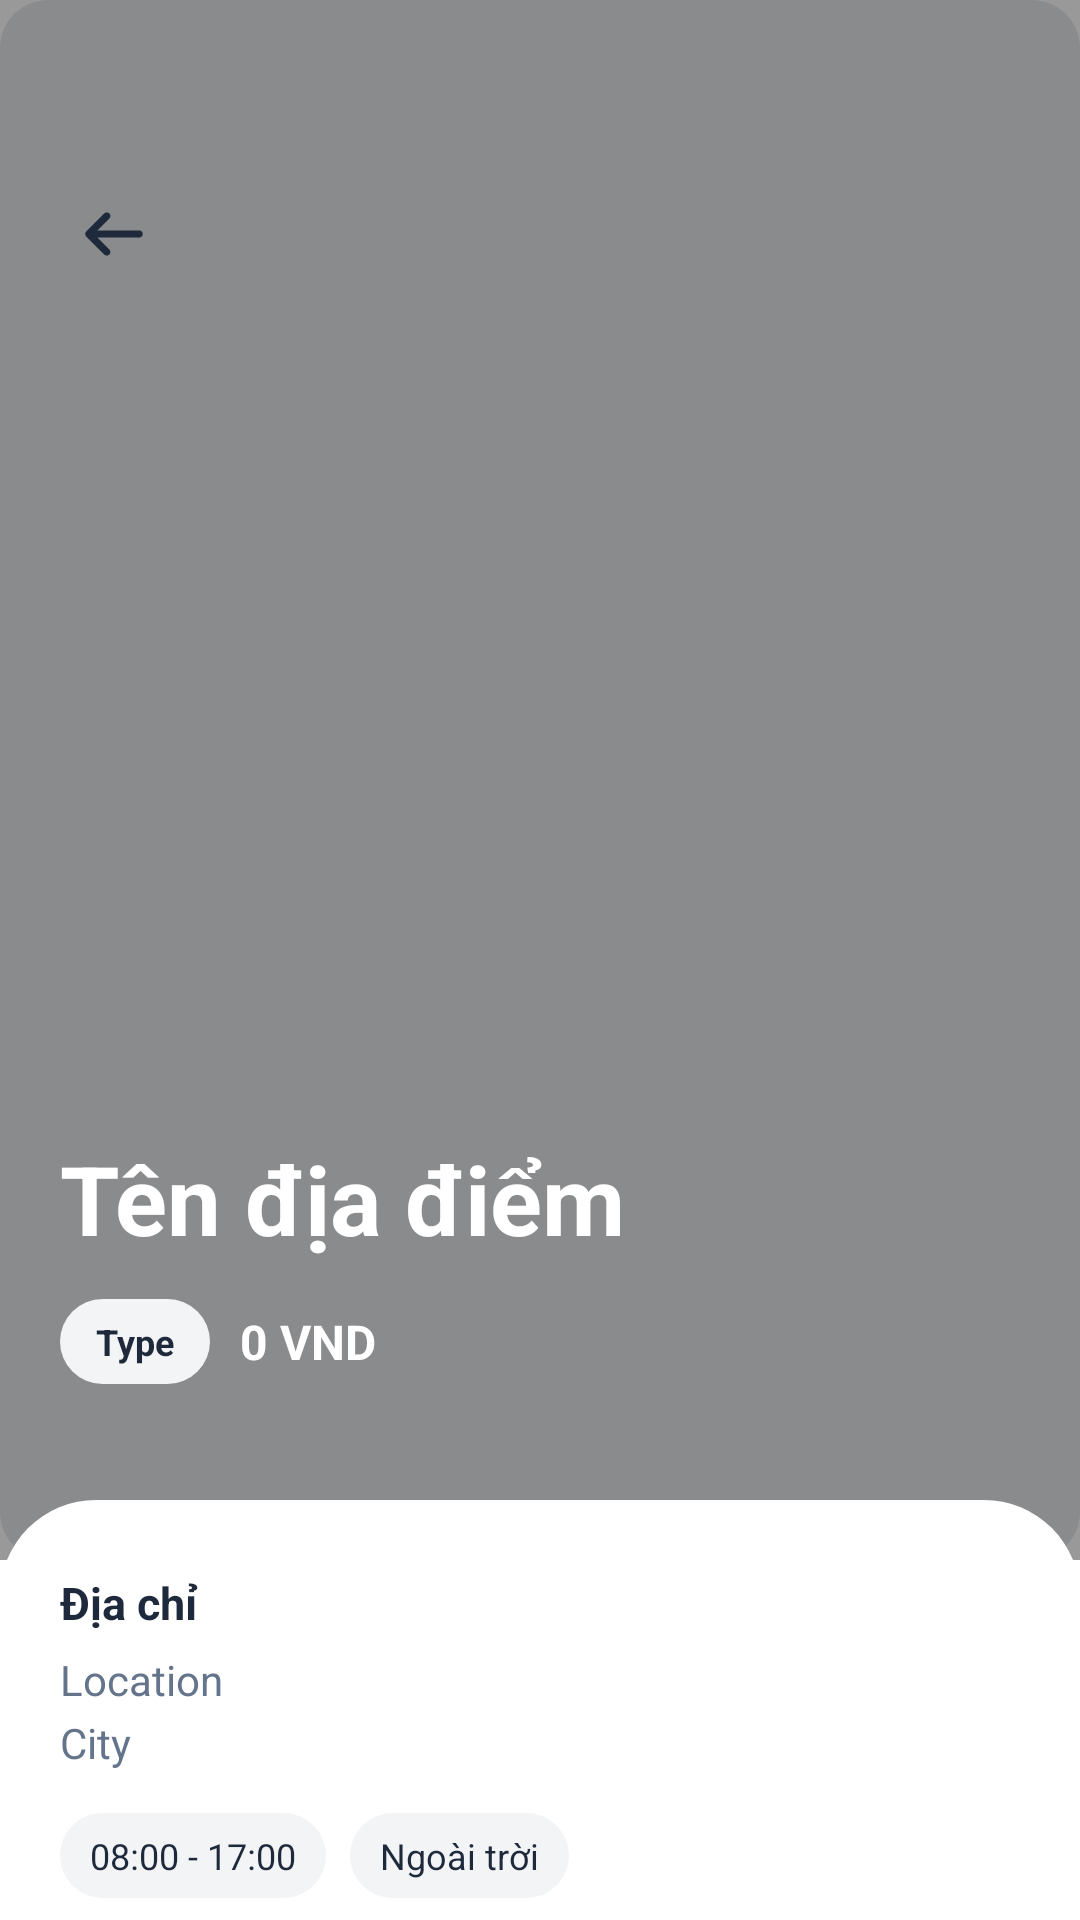

Icon click points for this 1080 × 1920 phone screenshot, format (x,y):
Quay lại: (114,234)
